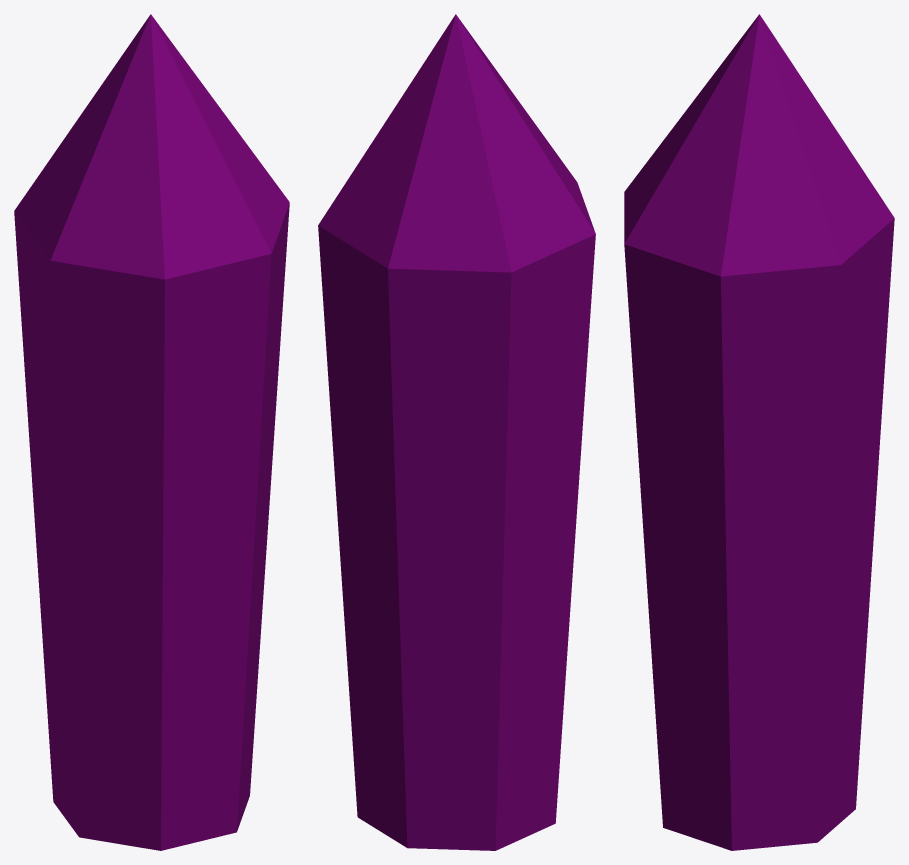
The model's file is Jem_37.fbx.
3 views of the same model, side by side, from view 1: azimuth 30°, elevation 25°; view 2: azimuth 150°, elevation 25°; view 3: azimuth 270°, elevation 25° (orthographic).
Parts seen in each view (by area): view 1: Jem_37; view 2: Jem_37; view 3: Jem_37.
Part boxes in pixels (box(x1,y1,x2,y2)): Jem_37: box(14, 14, 289, 850); Jem_37: box(318, 14, 595, 850); Jem_37: box(624, 14, 894, 850).
Size of the model in its own units: 19.06 by 60.3 by 18.59.
